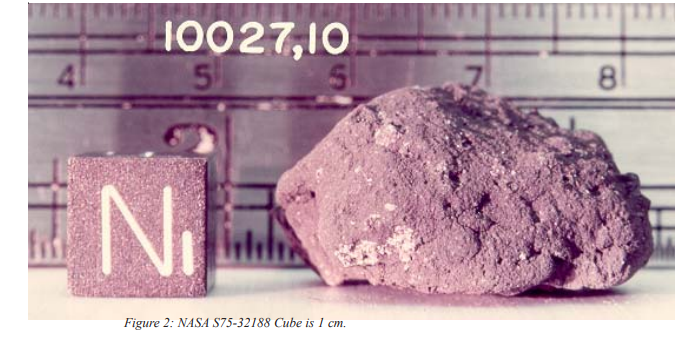Breccia: (248, 55, 652, 292)
